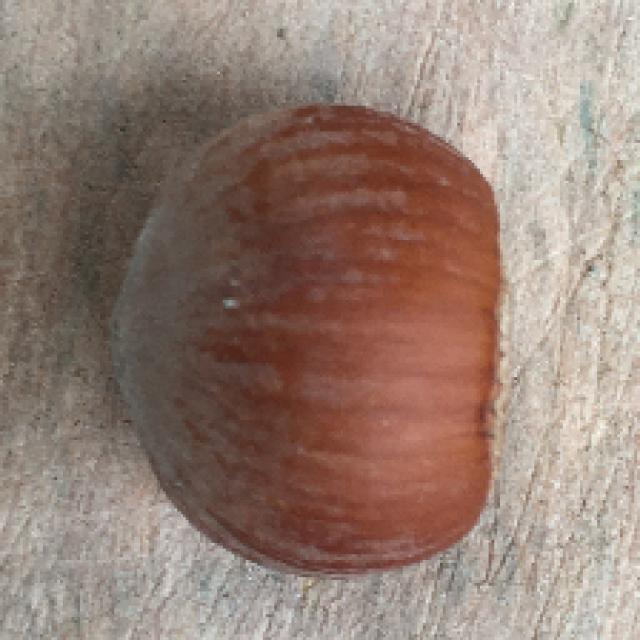hazelnut: (97, 90, 518, 584)
